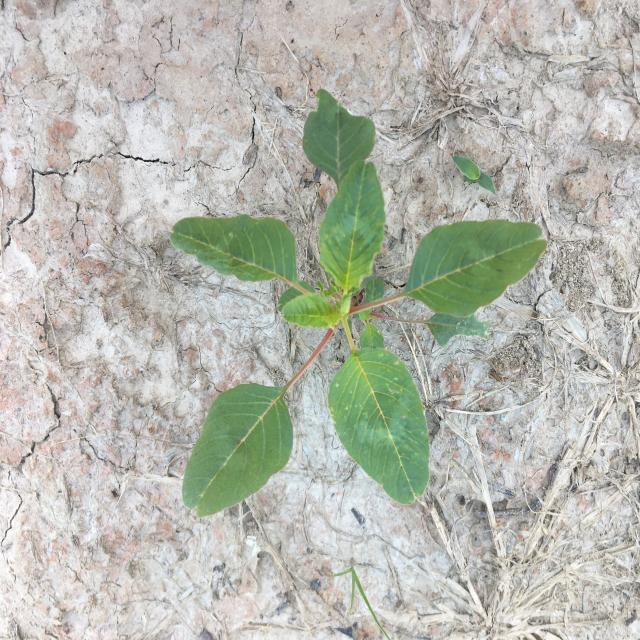PalmerAmaranth: (169, 88, 548, 519)
